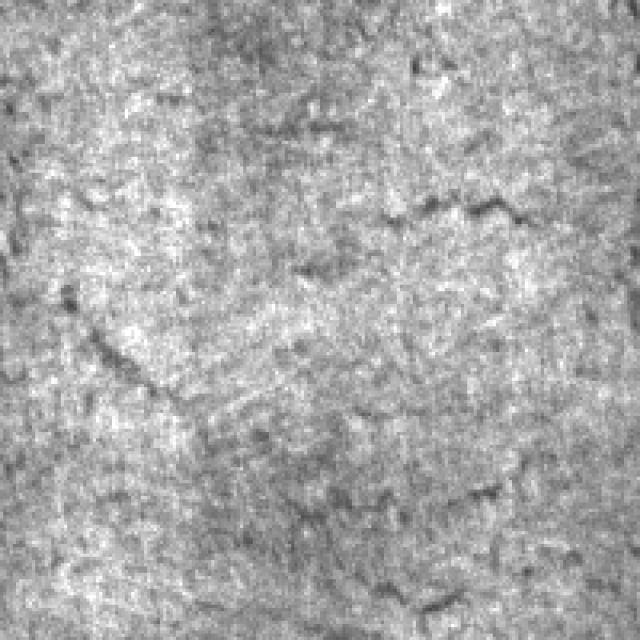crazing: (61, 285, 544, 630)
